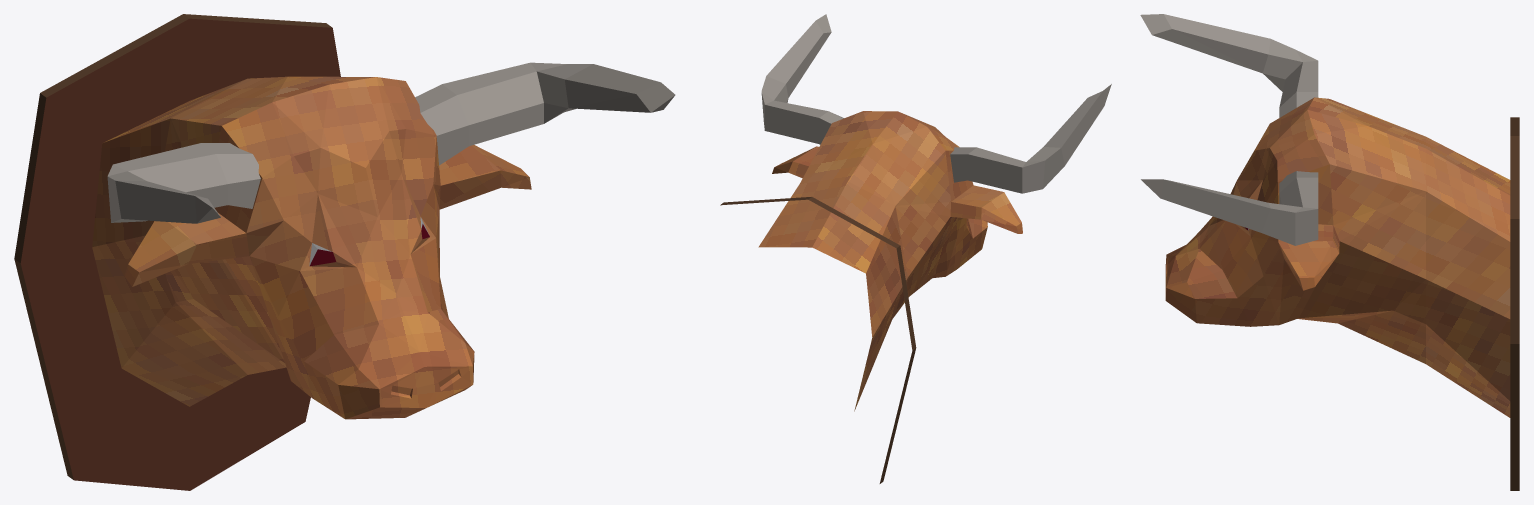
Rendered from StuffedBullHead.glb.
3 renders of one model, left to right at view 1: azimuth 30°, elevation 25°; view 2: azimuth 150°, elevation 25°; view 3: azimuth 270°, elevation 25°, orthographic. The views are drawn at different scales.
Parts seen in each view (by area): view 1: StuffedBullHead2; view 2: StuffedBullHead2; view 3: StuffedBullHead2.
Boxes of the visible parts, x1=… form: StuffedBullHead2: x1=14, y1=14, x2=675, y2=490; StuffedBullHead2: x1=720, y1=14, x2=1111, y2=483; StuffedBullHead2: x1=1140, y1=14, x2=1519, y2=490.
Size of the model in its own units: 0.758 by 0.7975 by 0.7164.
Materials: 3 (3 with a texture image).
